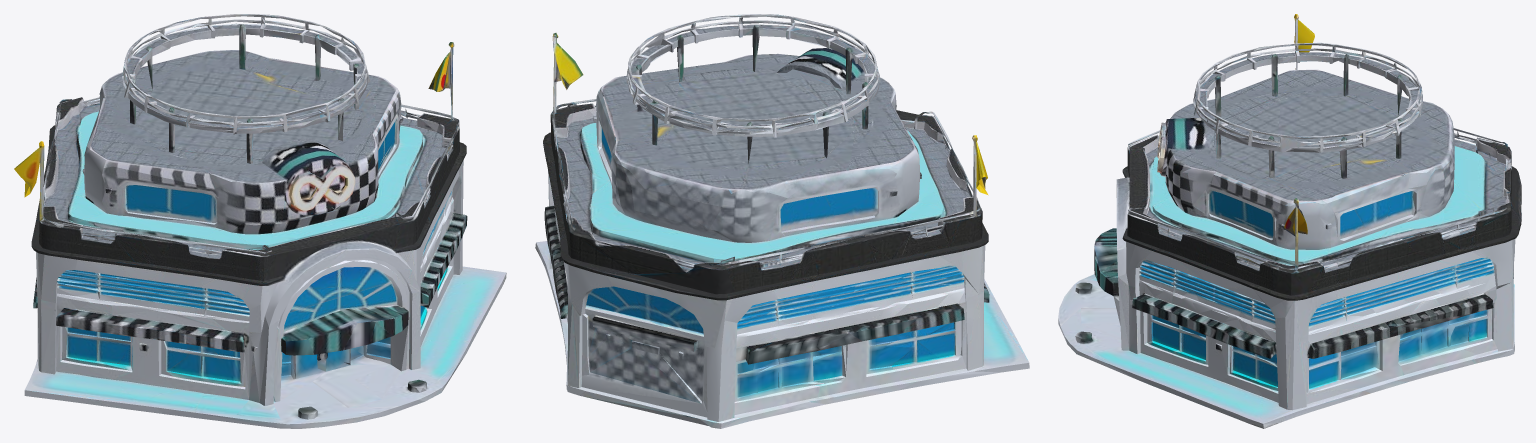
The model's file is kart-arena.glb.
The picture shows the model from 3 angles, left to right: view 1: azimuth 30°, elevation 25°; view 2: azimuth 150°, elevation 25°; view 3: azimuth 270°, elevation 25°; orthographic projection. The views are drawn at different scales.
Bounding box in the file's own units: 1.9 × 0.9529 × 1.72.
1 material, 1 textured.
